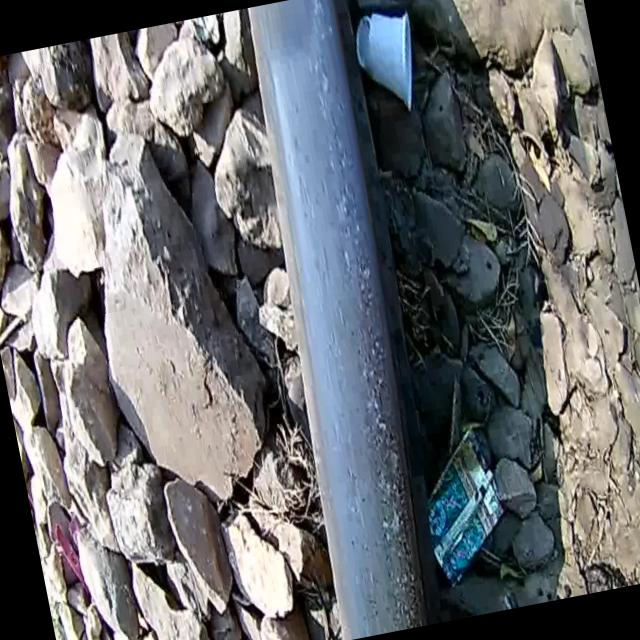Squats: (201, 0, 483, 640)
